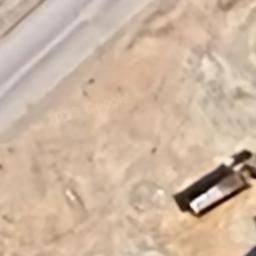truck: (188, 158, 256, 222)
